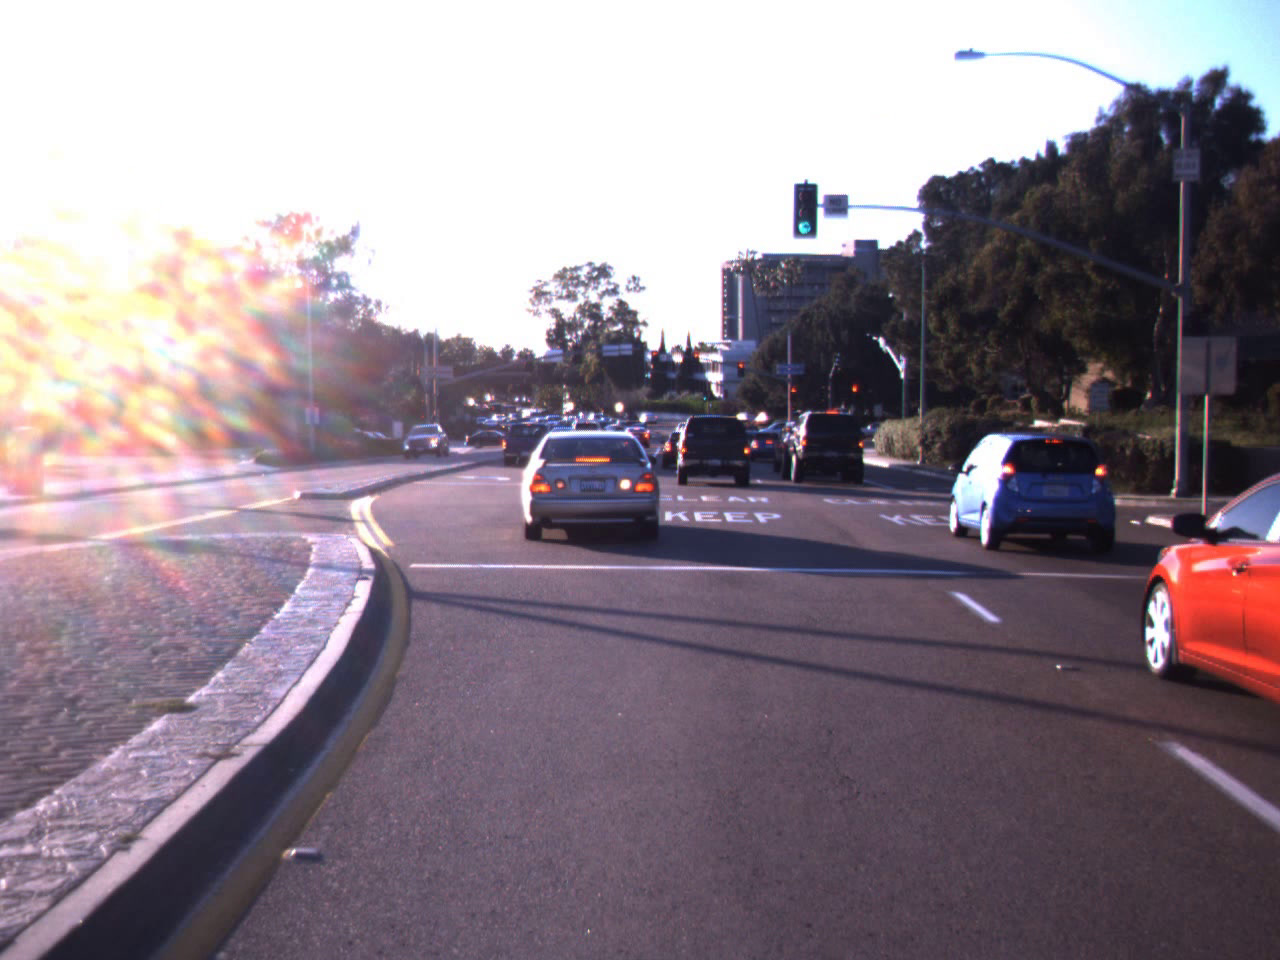go: (791, 188, 815, 238)
